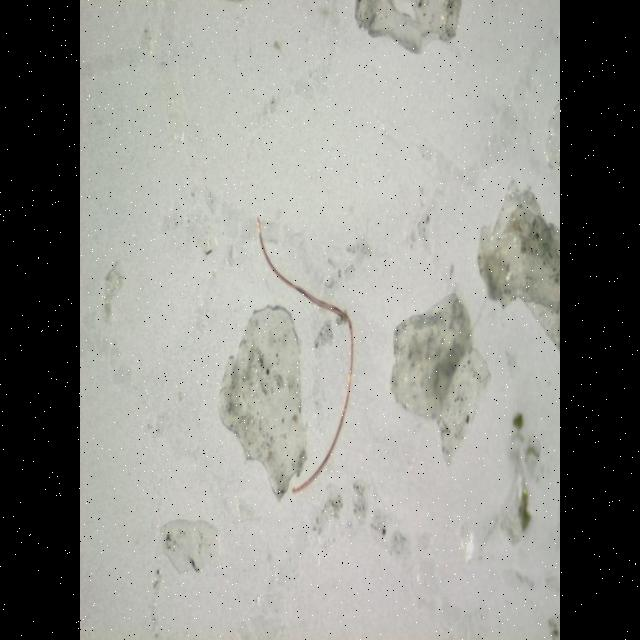Fibre: (218, 214, 354, 501)
